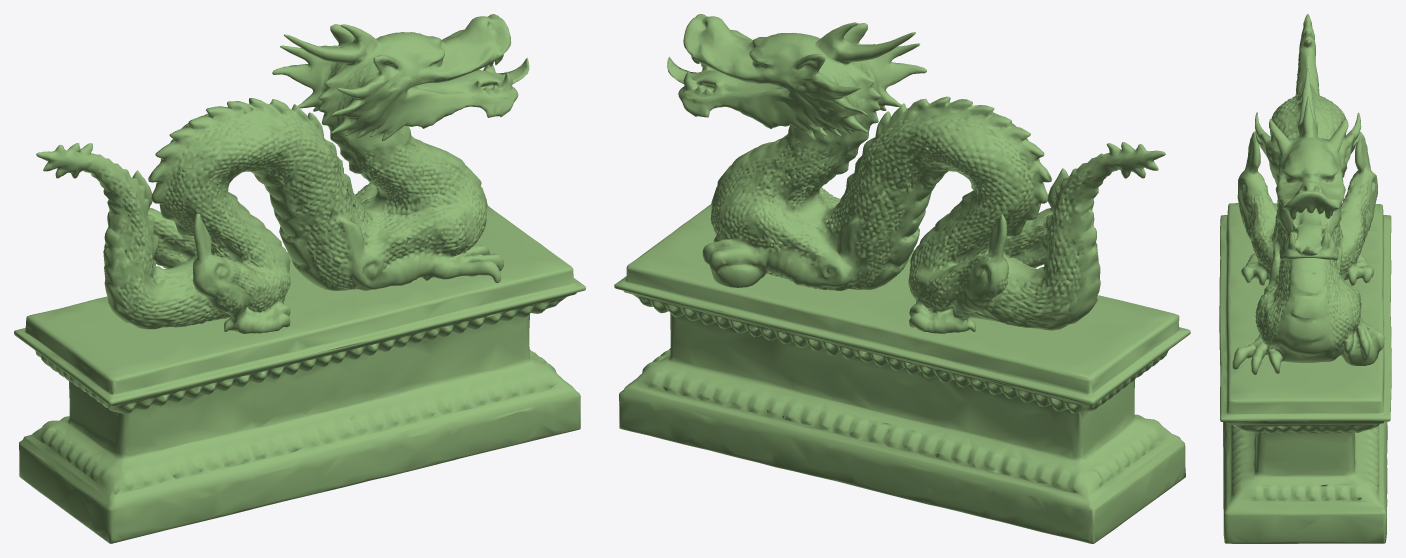
3 renders of one model, left to right at view 1: azimuth 30°, elevation 25°; view 2: azimuth 150°, elevation 25°; view 3: azimuth 270°, elevation 25°, orthographic. The views are drawn at different scales.
Parts seen in each view (by area): view 1: 玉龙; view 2: 玉龙; view 3: 玉龙.
Boxes of the visible parts, <box> form: 玉龙: <box>14,14,585,543</box>; 玉龙: <box>614,14,1190,543</box>; 玉龙: <box>1219,14,1391,543</box>.
Bounding box in the file's own units: 167 × 135 × 56.74.
